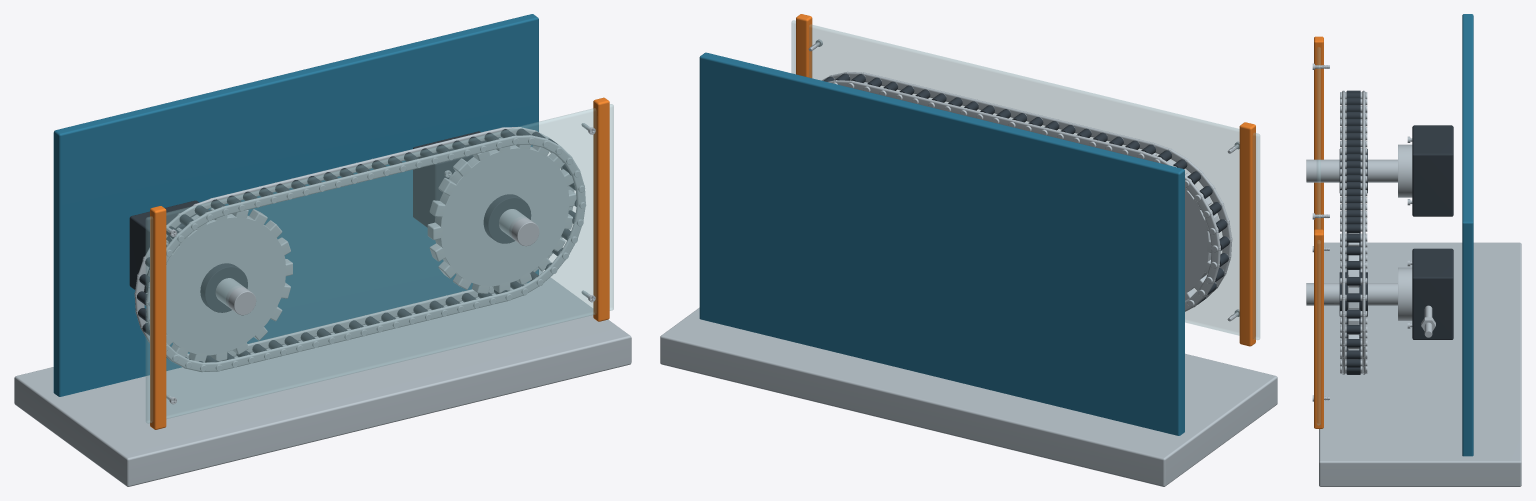
The model's file is 14_chain_drive_module.glb.
The picture shows the model from 3 angles, left to right: view 1: azimuth 30°, elevation 25°; view 2: azimuth 150°, elevation 25°; view 3: azimuth 270°, elevation 25°; orthographic projection. The views are drawn at different scales.
Parts seen in each view (by area): view 1: Transparent_GuardPlate, Rear_MountingPlate, BasePlate, Sprocket_Plate.001, Sprocket_Plate, Guard_Edge_-0.36, Guard_Edge_0.36, Bearing_Block.001, Bearing_Block, Sprocket_Hub, Sprocket_Hub.001, Shaft (+1 smaller); view 2: Rear_MountingPlate, BasePlate, Transparent_GuardPlate, Guard_Edge_-0.36, Sprocket_Plate, Guard_Edge_0.36; view 3: BasePlate, Rear_MountingPlate, Bearing_Block, Bearing_Block.001, Guard_Edge_0.36, Guard_Edge_-0.36, Shaft, Transparent_GuardPlate, Shaft.001, Bearing_Race, Bearing_Race.001, Sprocket_Hub.001.
Boxes of the visible parts, left/top/right/bottom form: Transparent_GuardPlate: left=146, top=104, right=613, bottom=423; Rear_MountingPlate: left=53, top=14, right=538, bottom=396; BasePlate: left=14, top=270, right=631, bottom=486; Sprocket_Plate.001: left=435, top=145, right=569, bottom=286; Sprocket_Plate: left=166, top=214, right=285, bottom=355; Guard_Edge_-0.36: left=150, top=206, right=166, bottom=429; Guard_Edge_0.36: left=593, top=97, right=609, bottom=321; Bearing_Block.001: left=413, top=131, right=485, bottom=227; Bearing_Block: left=129, top=200, right=209, bottom=292; Sprocket_Hub: left=200, top=263, right=247, bottom=312; Sprocket_Hub.001: left=483, top=194, right=531, bottom=243; Shaft: left=215, top=278, right=256, bottom=315; Rear_MountingPlate: left=699, top=52, right=1184, bottom=435; BasePlate: left=660, top=307, right=1277, bottom=486; Transparent_GuardPlate: left=791, top=20, right=1259, bottom=339; Guard_Edge_-0.36: left=1239, top=122, right=1255, bottom=346; Sprocket_Plate: left=1185, top=190, right=1211, bottom=292; Guard_Edge_0.36: left=796, top=14, right=812, bottom=77; BasePlate: left=1319, top=242, right=1521, bottom=486; Rear_MountingPlate: left=1462, top=14, right=1473, bottom=456; Bearing_Block: left=1412, top=125, right=1453, bottom=216; Bearing_Block.001: left=1412, top=248, right=1453, bottom=339; Guard_Edge_0.36: left=1314, top=229, right=1323, bottom=428; Guard_Edge_-0.36: left=1314, top=36, right=1323, bottom=230; Shaft: left=1306, top=159, right=1397, bottom=182; Transparent_GuardPlate: left=1317, top=47, right=1320, bottom=425; Shaft.001: left=1306, top=283, right=1397, bottom=305; Bearing_Race: left=1398, top=144, right=1412, bottom=197; Bearing_Race.001: left=1398, top=267, right=1412, bottom=320; Sprocket_Hub.001: left=1339, top=272, right=1367, bottom=316.
Bounding box in the file's own units: 0.82 × 0.4525 × 0.34.
